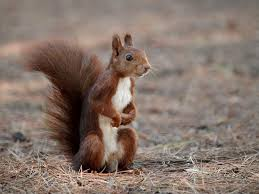Ardilla: (57, 27, 153, 171)
